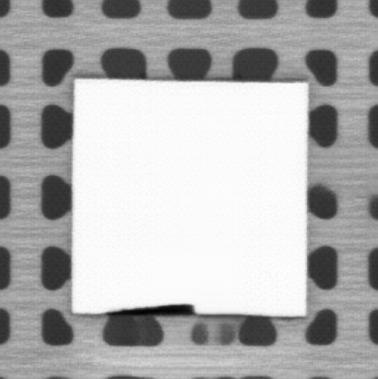DIE_BROKEN: (105, 301, 198, 315)
